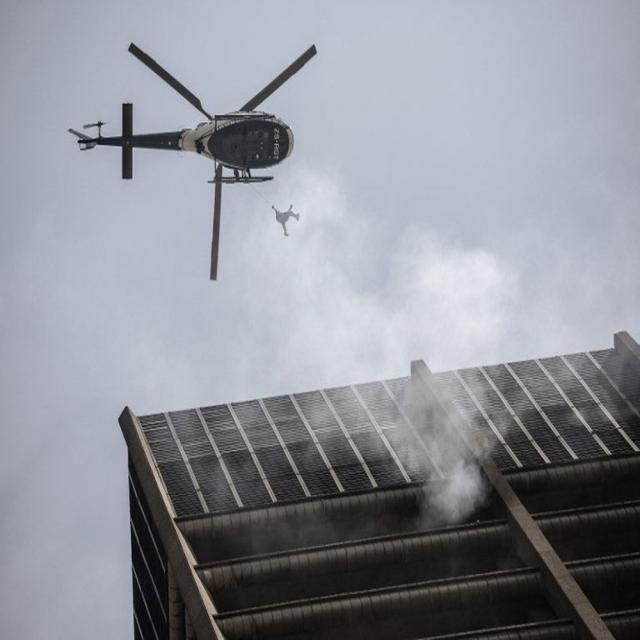Smoke: (281, 270, 593, 526)
